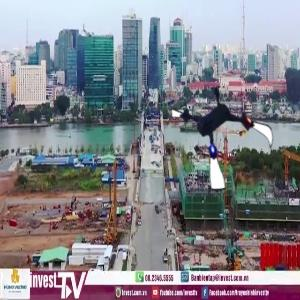drone: (169, 80, 280, 191)
